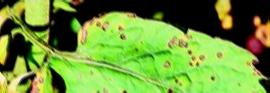Tomato leaf bacterial spot: (53, 13, 270, 93)
